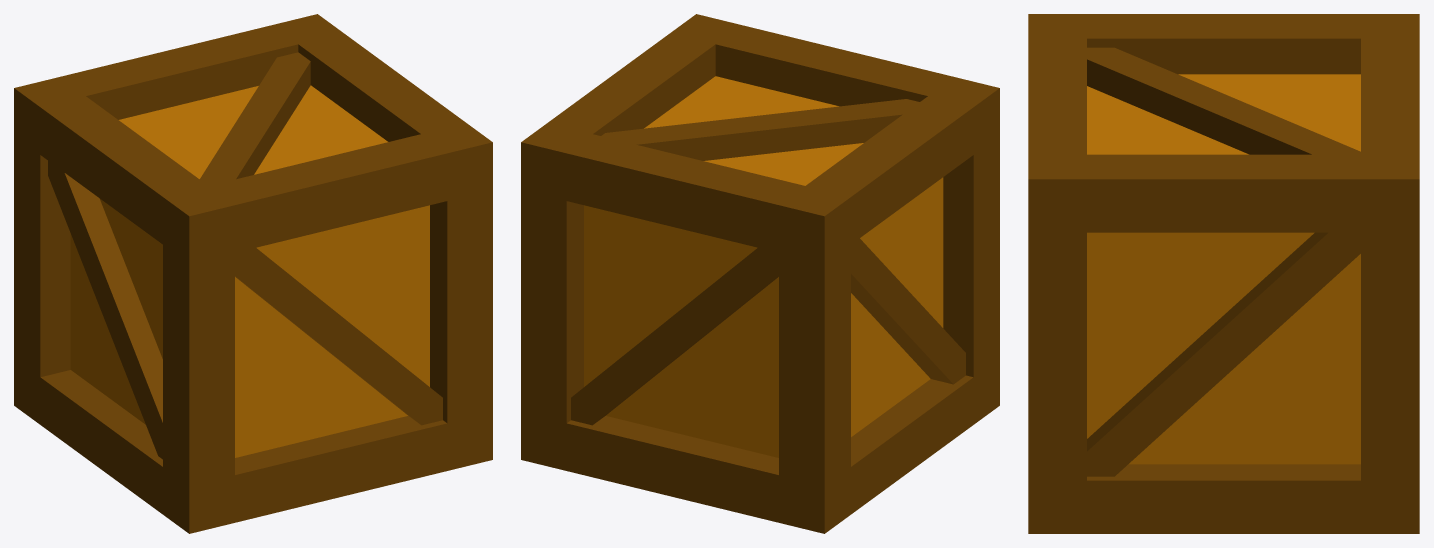
Rendered from crate.fbx.
3 renders of one model, left to right at view 1: azimuth 30°, elevation 25°; view 2: azimuth 150°, elevation 25°; view 3: azimuth 270°, elevation 25°, orthographic. The views are drawn at different scales.
Visible parts, largest first — view 1: crate; view 2: crate; view 3: crate.
Part boxes in pixels (box(x1,y1,x2,y2)): crate: box(14, 14, 492, 533); crate: box(521, 14, 999, 533); crate: box(1028, 14, 1419, 533).
Size of the model in its own units: 90 by 90 by 90.
